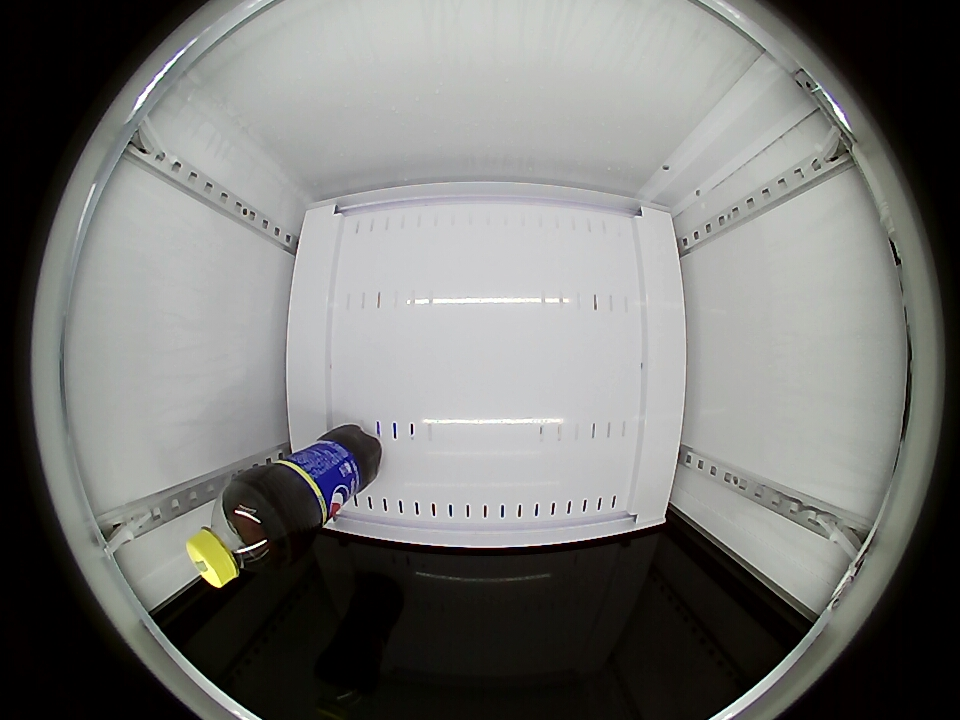baishikele: (186, 482, 290, 588)
